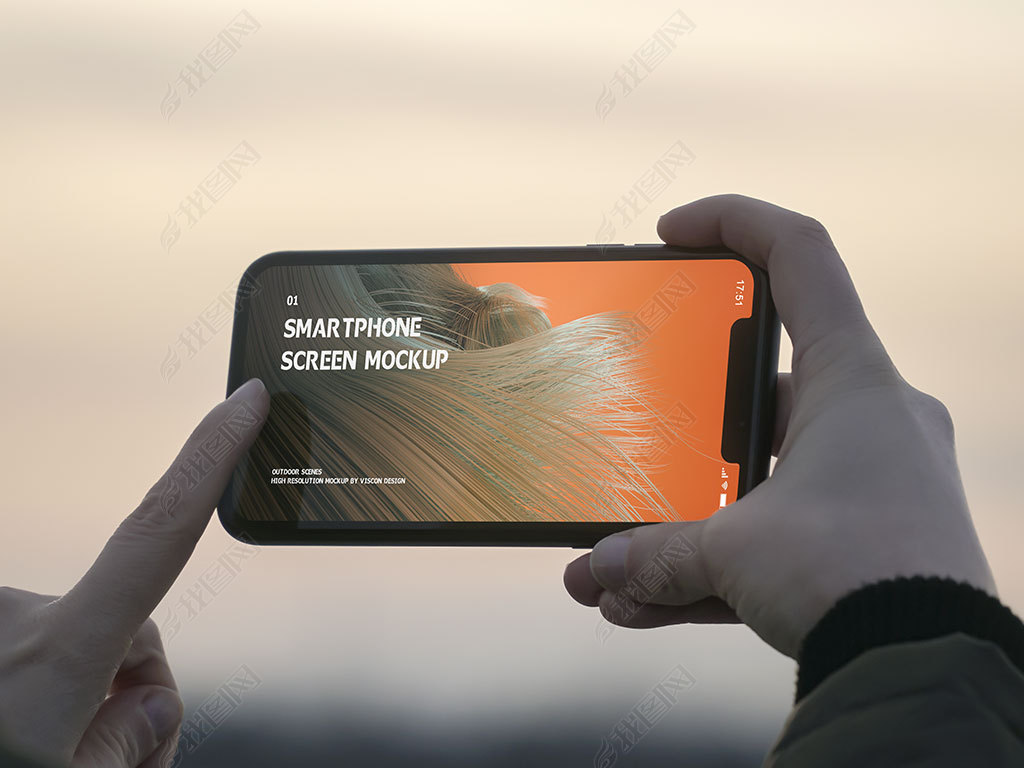taking photos: (12, 179, 1012, 728)
